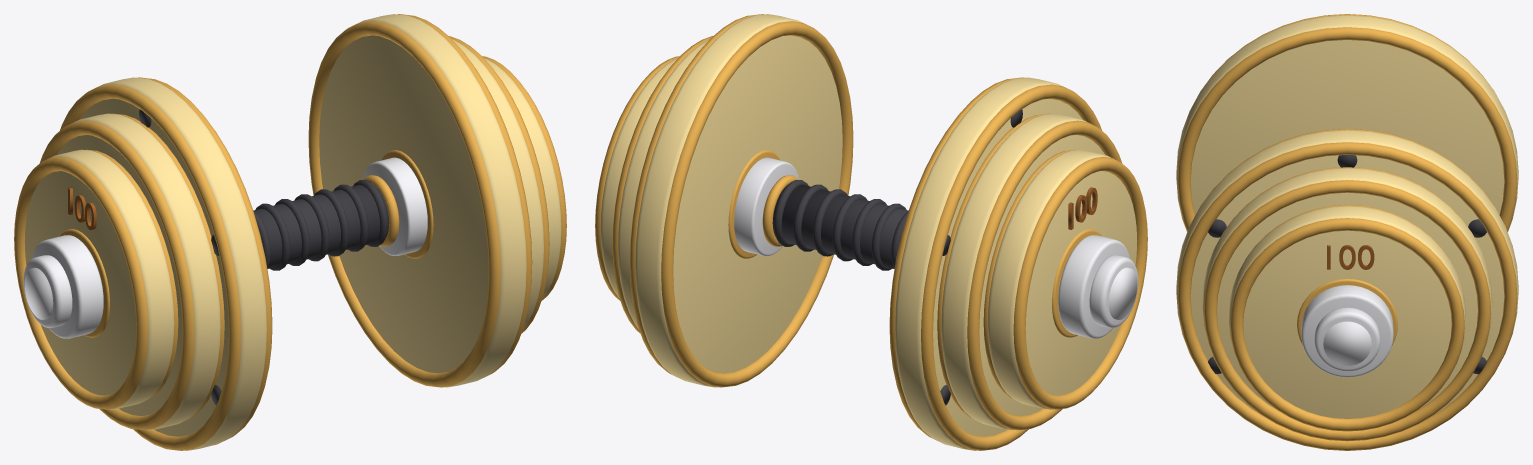
The model's file is dm_gold100kg.glb.
3 views of the same model, side by side, from view 1: azimuth 30°, elevation 25°; view 2: azimuth 150°, elevation 25°; view 3: azimuth 270°, elevation 25° (orthographic). The views are drawn at different scales.
Parts seen in each view (by area): view 1: Gold100kg_Plate0.001, Gold100kg_Plate2, Gold100kg_Plate0, Gold100kg_Plate1, Gold100kg_PlateRimIn0.001, Gold100kg_PlateRim2, Gold100kg_PlateRim0, Gold100kg_PlateRim1, Gold100kg_Grip, Gold100kg_Collar, Gold100kg_Plate1.001, Gold100kg_InnerCollar.001 (+19 smaller); view 2: Gold100kg_Plate0.001, Gold100kg_Plate2, Gold100kg_Plate0, Gold100kg_Plate1, Gold100kg_PlateRimIn0.001, Gold100kg_PlateRim2, Gold100kg_PlateRim0, Gold100kg_PlateRim1, Gold100kg_Grip, Gold100kg_Collar, Gold100kg_Plate1.001, Gold100kg_InnerCollar.001 (+19 smaller); view 3: Gold100kg_Plate0, Gold100kg_Plate2.001, Gold100kg_PlateRim0.001, Gold100kg_Plate0.001, Gold100kg_PlateRim1.001, Gold100kg_Plate1.001, Gold100kg_PlateRim2.001, Gold100kg_PlateRimIn0, Gold100kg_Collar.001, Gold100kg_EndCap.001, Gold100kg_Bar, Gold100kg_Hub2.001 (+5 smaller).
Boxes of the visible parts, <box> form: Gold100kg_Plate0.001: <box>319,14,526,387</box>; Gold100kg_Plate2: <box>24,149,174,409</box>; Gold100kg_Plate0: <box>79,77,266,450</box>; Gold100kg_Plate1: <box>57,113,220,430</box>; Gold100kg_PlateRimIn0.001: <box>308,21,500,387</box>; Gold100kg_PlateRim2: <box>14,157,148,409</box>; Gold100kg_PlateRim0: <box>60,84,240,450</box>; Gold100kg_PlateRim1: <box>40,120,194,430</box>; Gold100kg_Grip: <box>253,184,389,268</box>; Gold100kg_Collar: <box>32,235,103,338</box>; Gold100kg_Plate1.001: <box>452,39,543,328</box>; Gold100kg_InnerCollar.001: <box>362,157,427,255</box>; Gold100kg_Plate0.001: <box>635,14,842,387</box>; Gold100kg_Plate2: <box>987,149,1137,409</box>; Gold100kg_Plate0: <box>895,77,1082,450</box>; Gold100kg_Plate1: <box>941,113,1104,430</box>; Gold100kg_PlateRimIn0.001: <box>661,21,853,387</box>; Gold100kg_PlateRim2: <box>1013,157,1147,409</box>; Gold100kg_PlateRim0: <box>921,84,1101,450</box>; Gold100kg_PlateRim1: <box>967,120,1121,430</box>; Gold100kg_Grip: <box>772,184,908,268</box>; Gold100kg_Collar: <box>1058,235,1129,338</box>; Gold100kg_Plate1.001: <box>618,39,709,328</box>; Gold100kg_InnerCollar.001: <box>734,157,799,255</box>; Gold100kg_Plate0: <box>1176,15,1518,231</box>; Gold100kg_Plate2.001: <box>1229,206,1465,418</box>; Gold100kg_PlateRim0.001: <box>1177,142,1517,450</box>; Gold100kg_Plate0.001: <box>1176,130,1518,413</box>; Gold100kg_PlateRim1.001: <box>1204,180,1490,441</box>; Gold100kg_Plate1.001: <box>1202,168,1492,408</box>; Gold100kg_PlateRim2.001: <box>1230,218,1464,431</box>; Gold100kg_PlateRimIn0: <box>1177,27,1517,231</box>; Gold100kg_Collar.001: <box>1301,285,1393,377</box>; Gold100kg_EndCap.001: <box>1314,307,1380,371</box>; Gold100kg_Bar: <box>1323,321,1371,365</box>; Gold100kg_Hub2.001: <box>1297,279,1397,345</box>.
Size of the model in its own units: 2.53 by 1.64 by 1.64.
